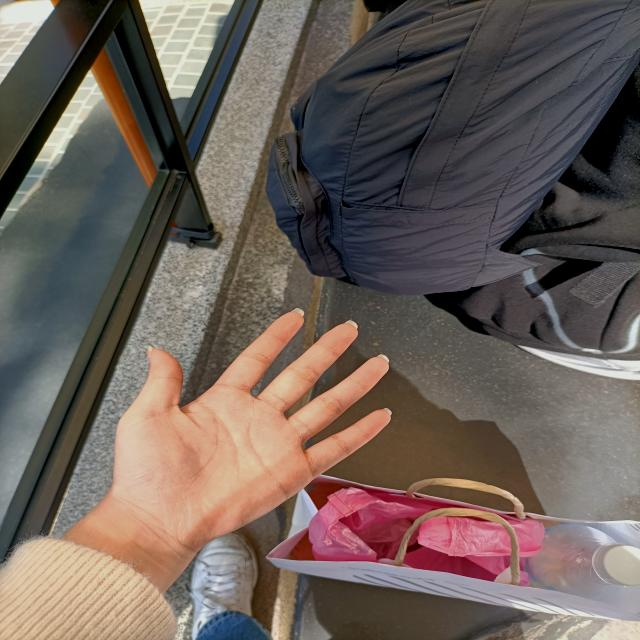no_glove: (99, 293, 417, 555)
